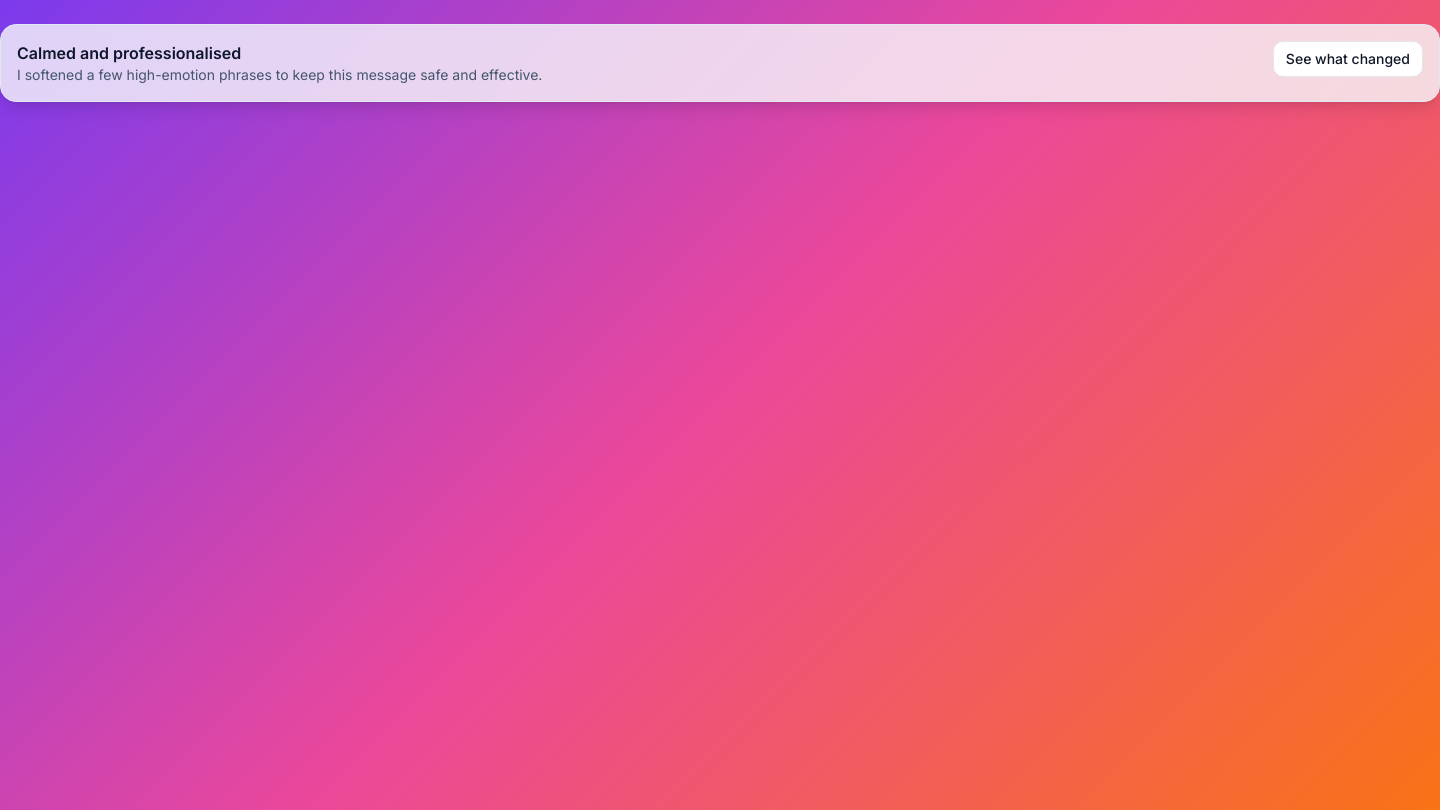
DeescalationBanner › toggles the CTA label and aria state
Click the button "See what changed".
click(1348, 59)  # box x1=1273 y1=41 x2=1423 y2=77
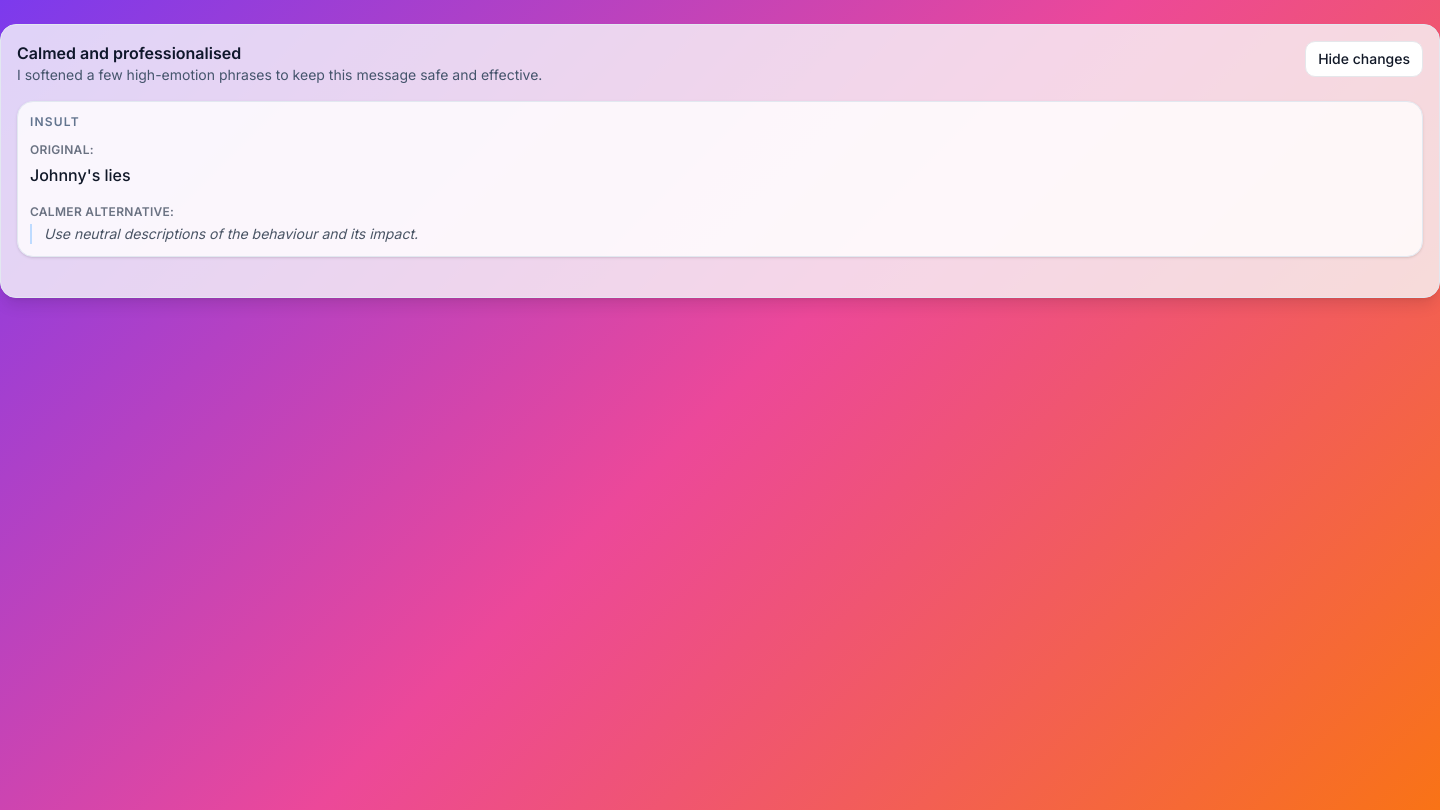
Check: the button named "see what changed" reads "Hide changes"
Check: the button named "see what changed" is expanded
Click the button named "see what changed".
click(1364, 59)  # box x1=1305 y1=41 x2=1423 y2=77
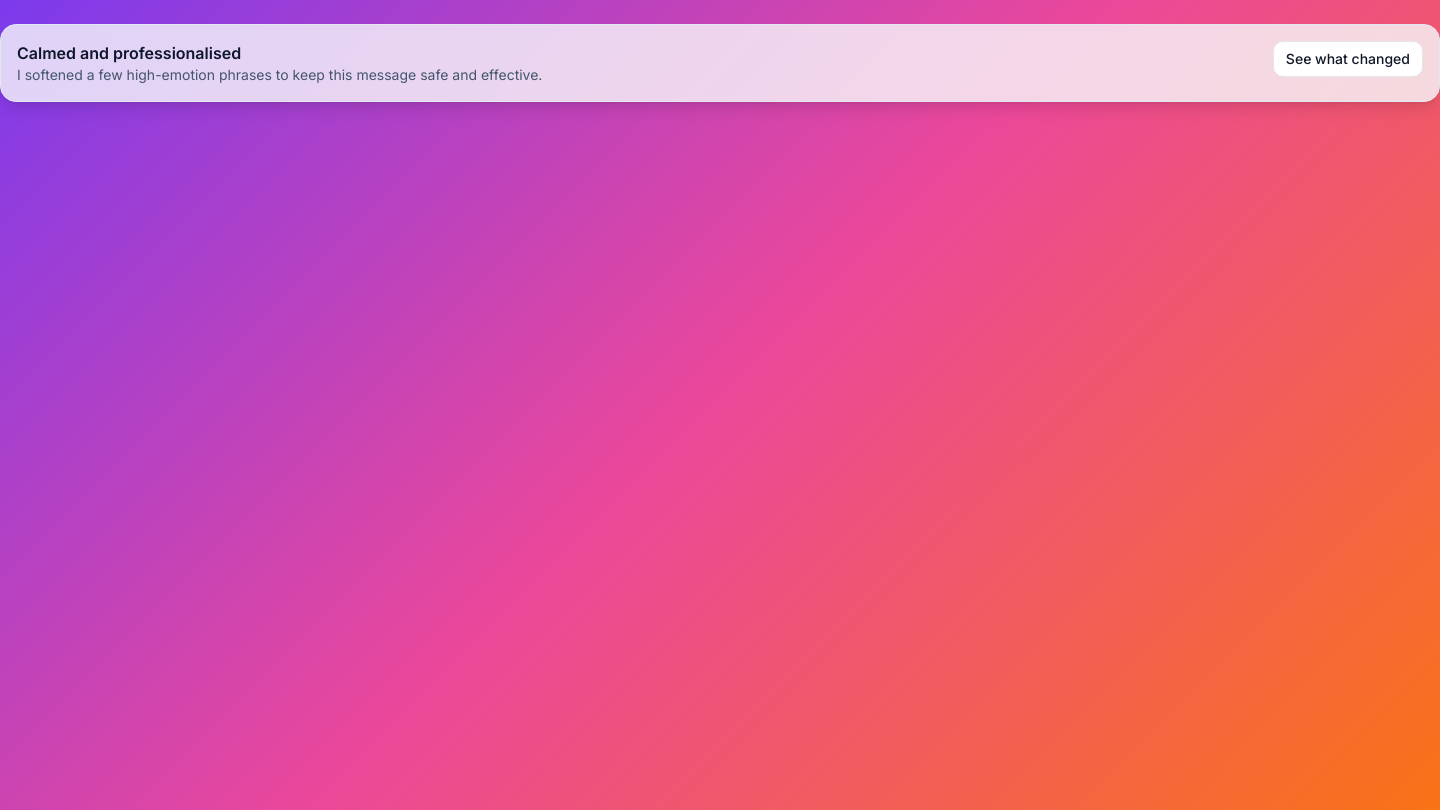
Check: the button "See what changed" is shown, box x1=1273 y1=41 x2=1423 y2=77
Check: the button "See what changed" is collapsed, box x1=1273 y1=41 x2=1423 y2=77
